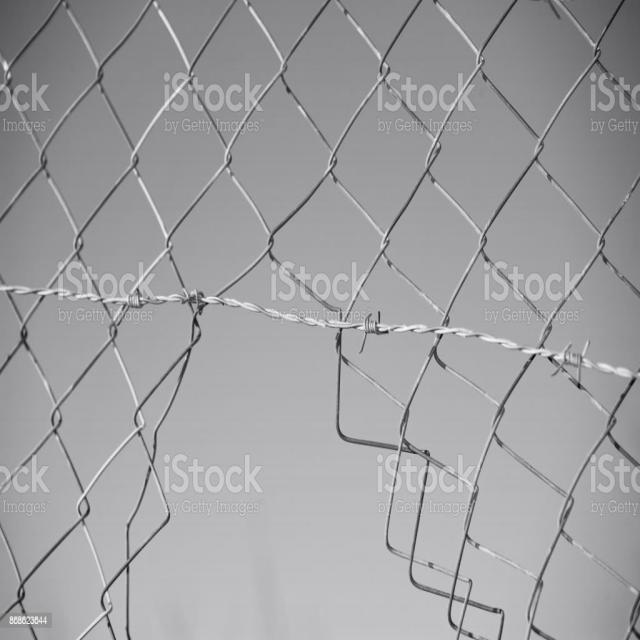fence line: (144, 292, 451, 630)
